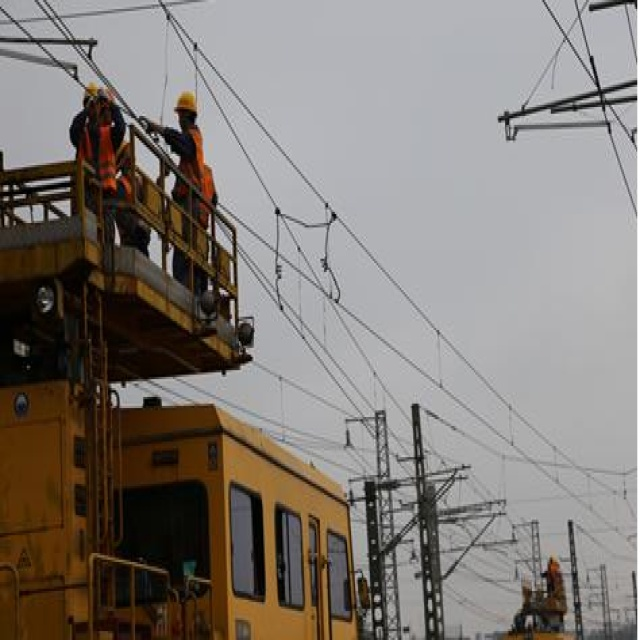Helmet: (167, 80, 218, 138)
Reflective vest: (77, 120, 124, 200), (177, 132, 217, 210)
